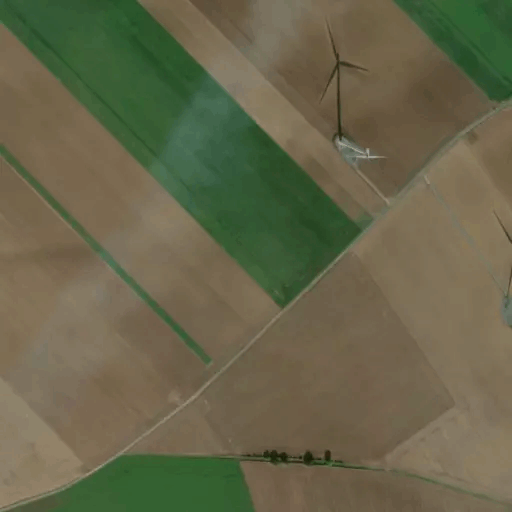wt: (307, 15, 393, 166)
